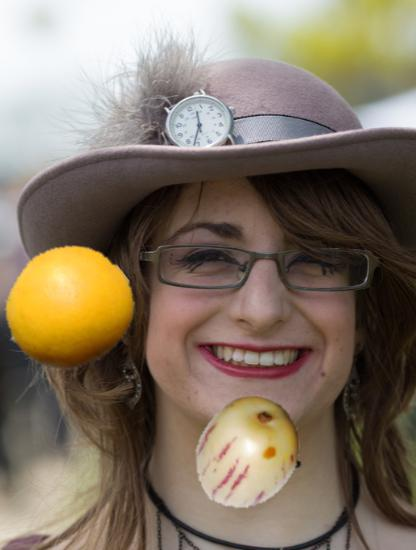Grapefruit: (1, 242, 134, 375)
Pepino: (191, 395, 305, 509)
